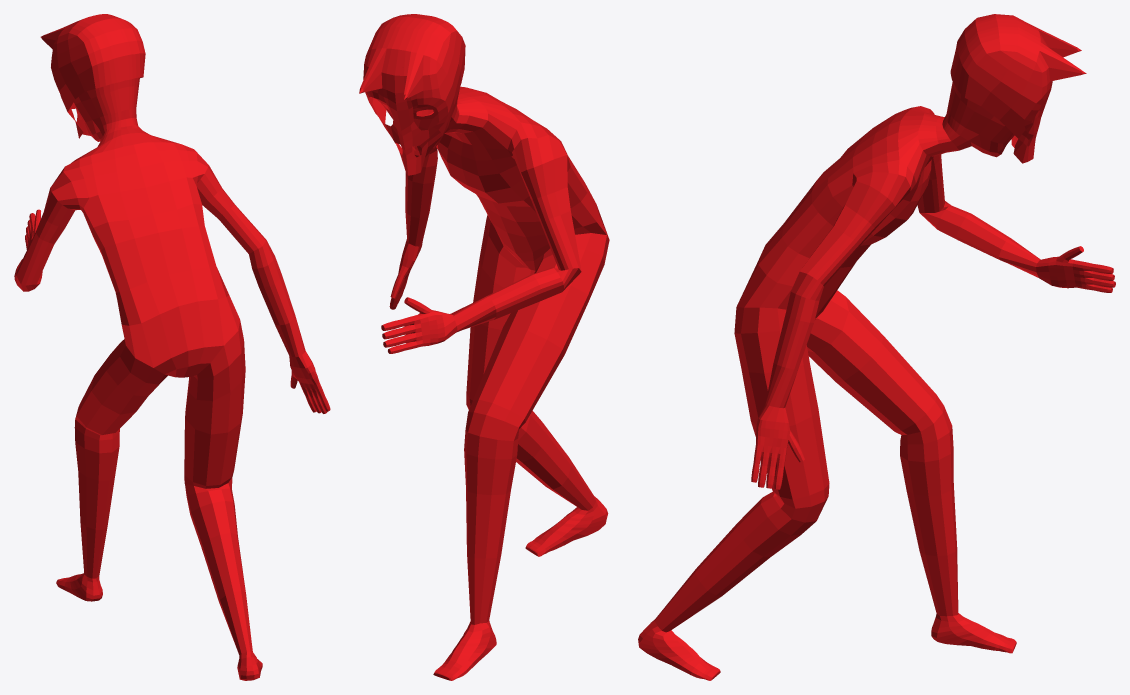
Rendered from saltoadelanteE_000153.obj.
3 renders of one model, left to right at view 1: azimuth 30°, elevation 25°; view 2: azimuth 150°, elevation 25°; view 3: azimuth 270°, elevation 25°, orthographic. The views are drawn at different scales.
Parts seen in each view (by area): view 1: Plane.002_Plane.001; view 2: Plane.002_Plane.001; view 3: Plane.002_Plane.001.
Boxes of the visible parts, x1,y1,x2,y2 form: Plane.002_Plane.001: [14, 14, 330, 680]; Plane.002_Plane.001: [359, 14, 609, 680]; Plane.002_Plane.001: [638, 14, 1115, 680].
Bounding box in the file's own units: 2.61 × 5.94 × 3.99.
